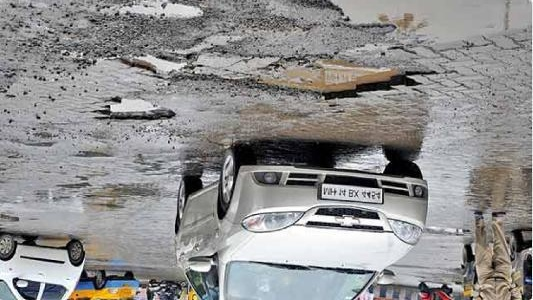pothole: (117, 44, 434, 103), (271, 0, 532, 44), (91, 93, 177, 124), (108, 0, 203, 19)
